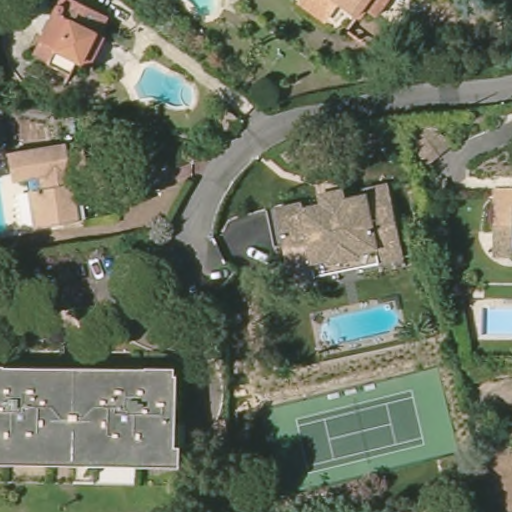pool: (320, 305, 404, 344), (131, 64, 200, 110), (478, 303, 512, 345), (1, 178, 18, 235), (183, 1, 223, 19)
